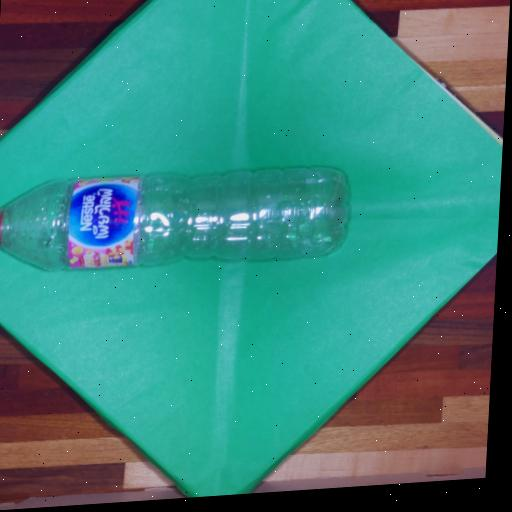bottle: (0, 157, 361, 279)
